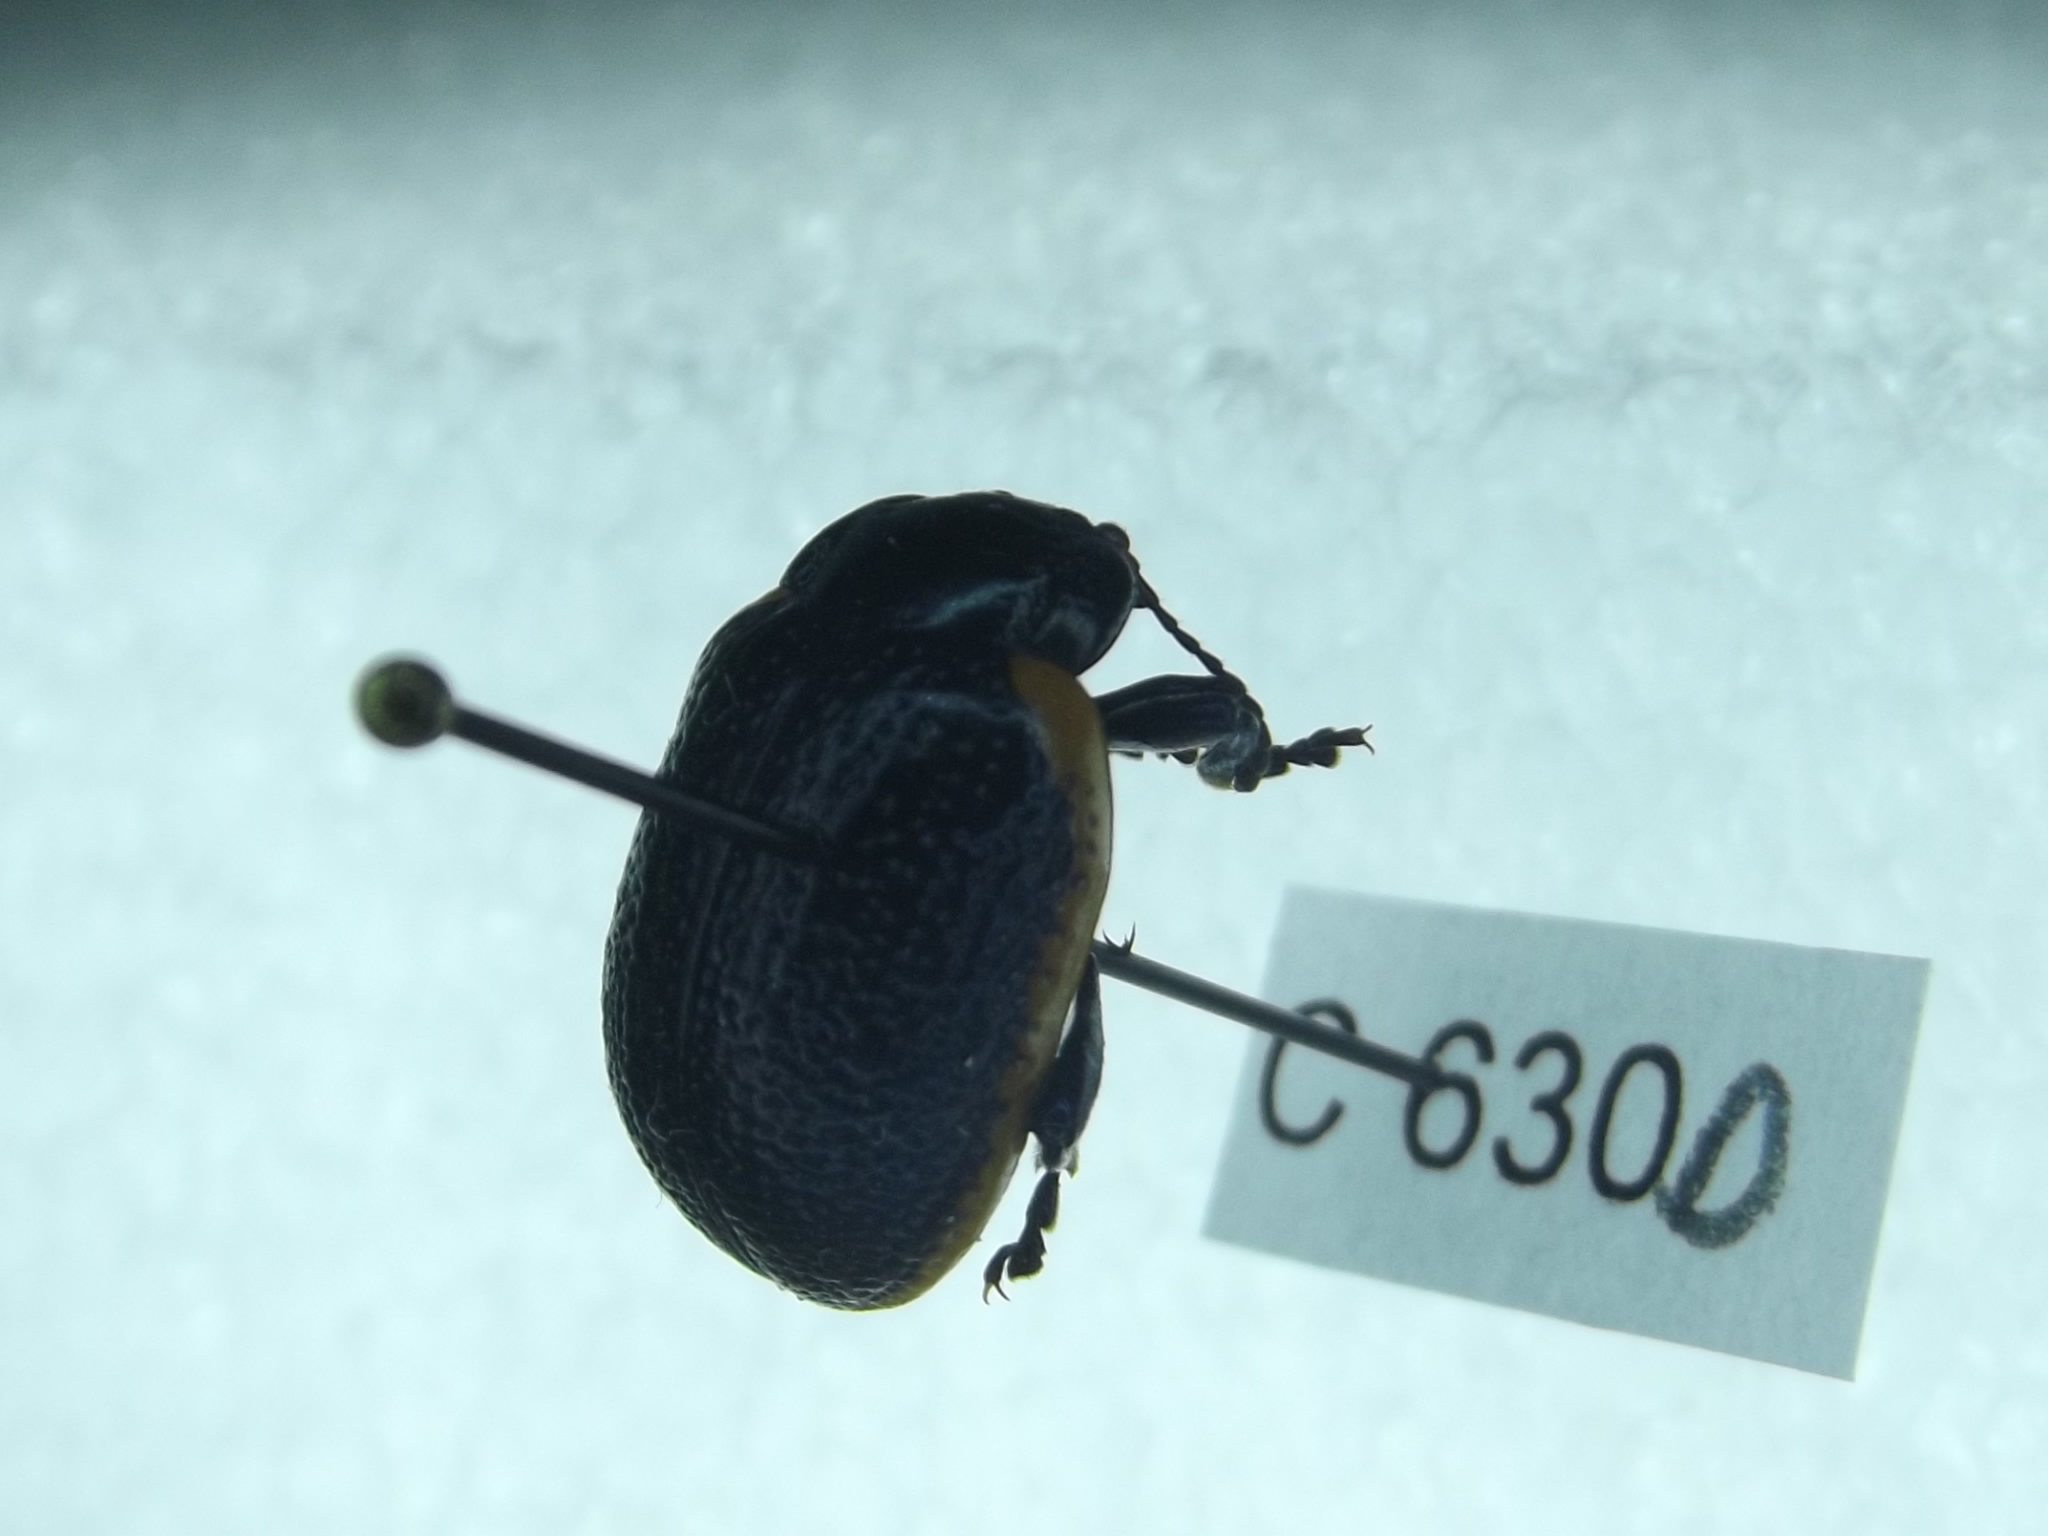Chrysolina_gypsophila: (595, 490, 1400, 1341)
